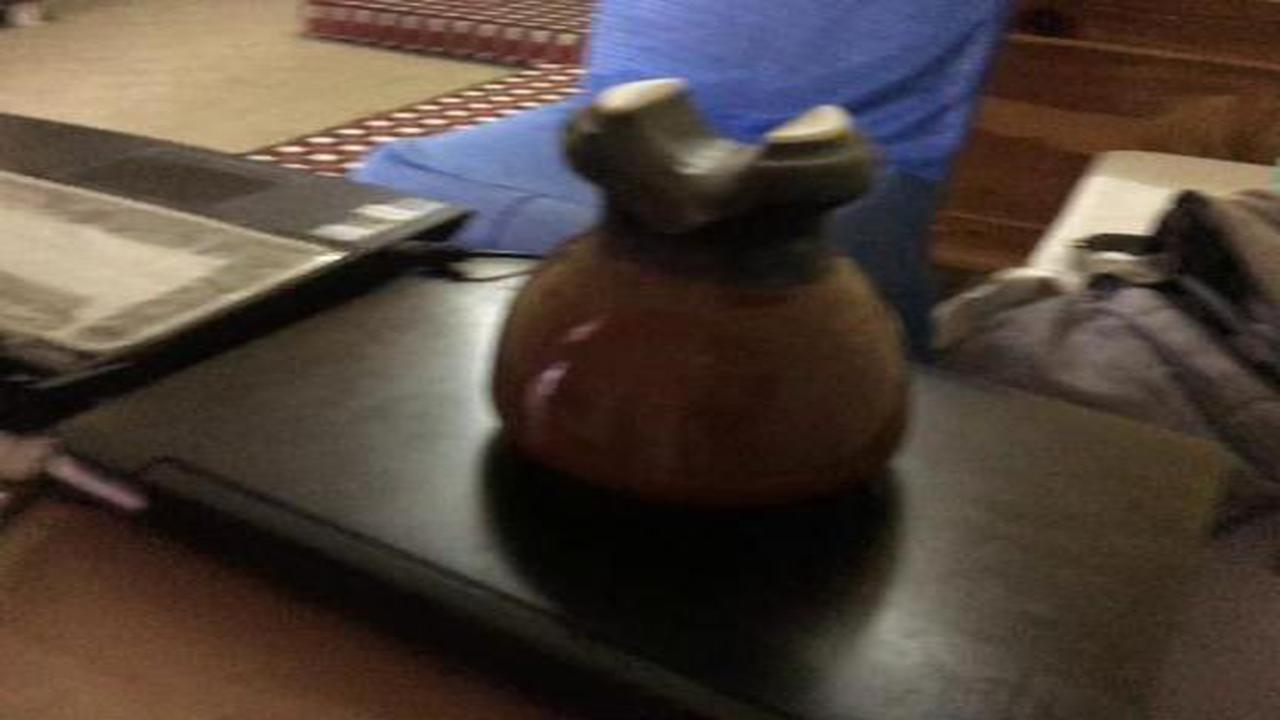insulator_pin: (468, 52, 948, 534)
